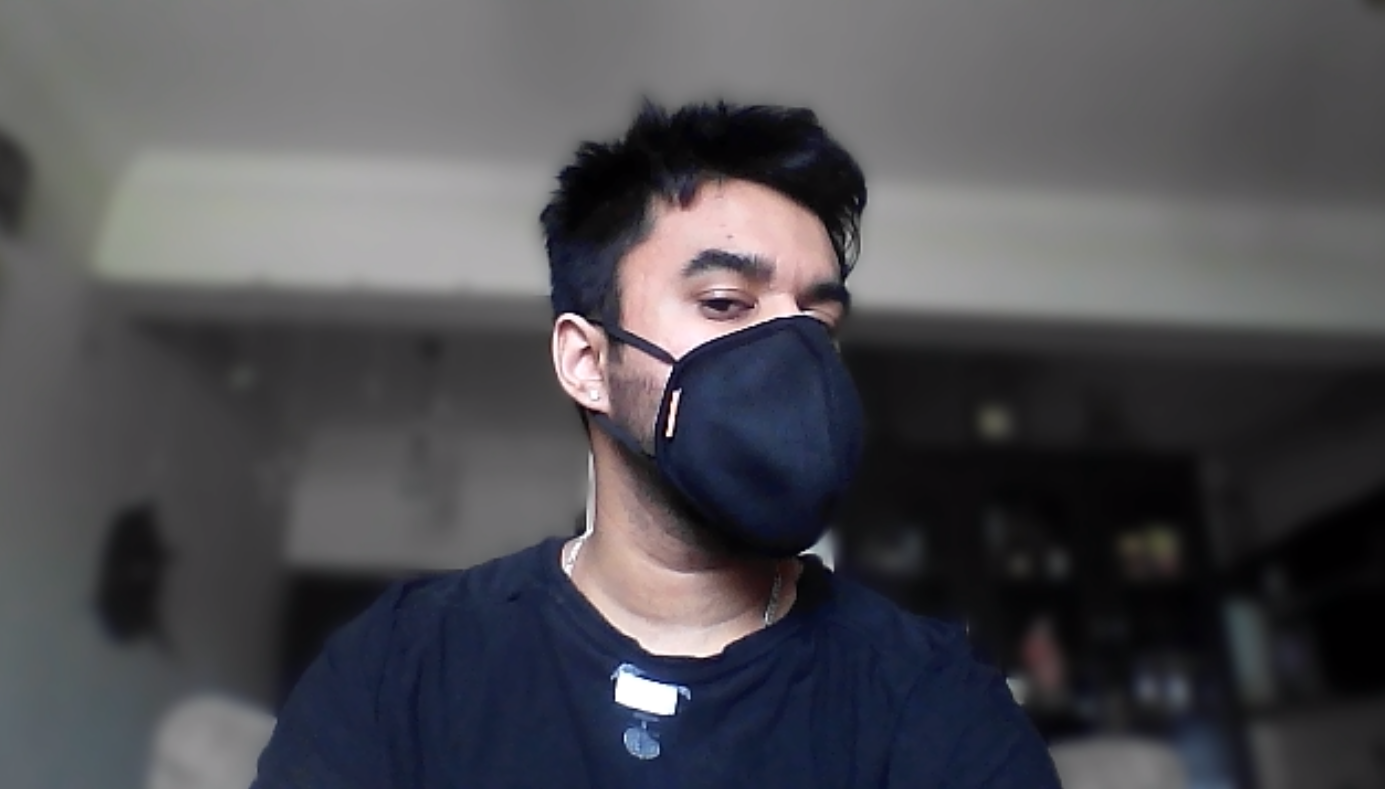Mask: (557, 313, 878, 560)
